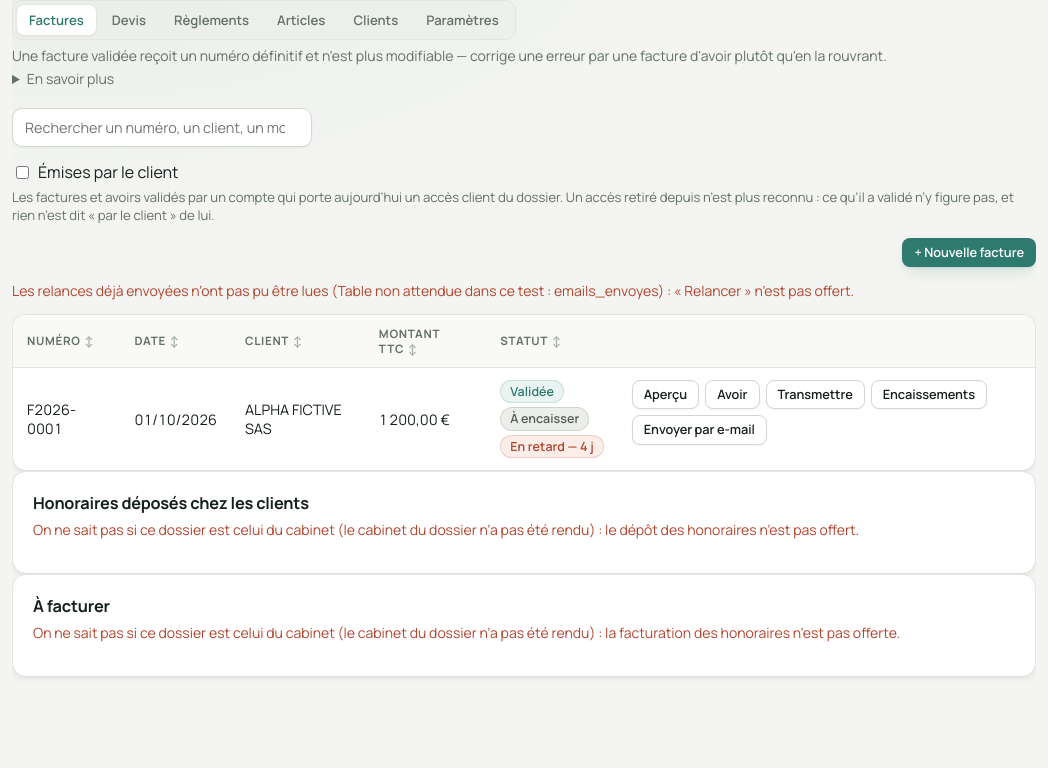
Devis dans l’onglet Factures — cabinet › le vide ne se dit que d’une liste lue en entier
This screenshot has width=1048, height=768.
expect the text "F2026-0001" is shown: met, box [27,400,76,438]
Click the tab "Devis" at (129, 20), box [99,4,159,36]
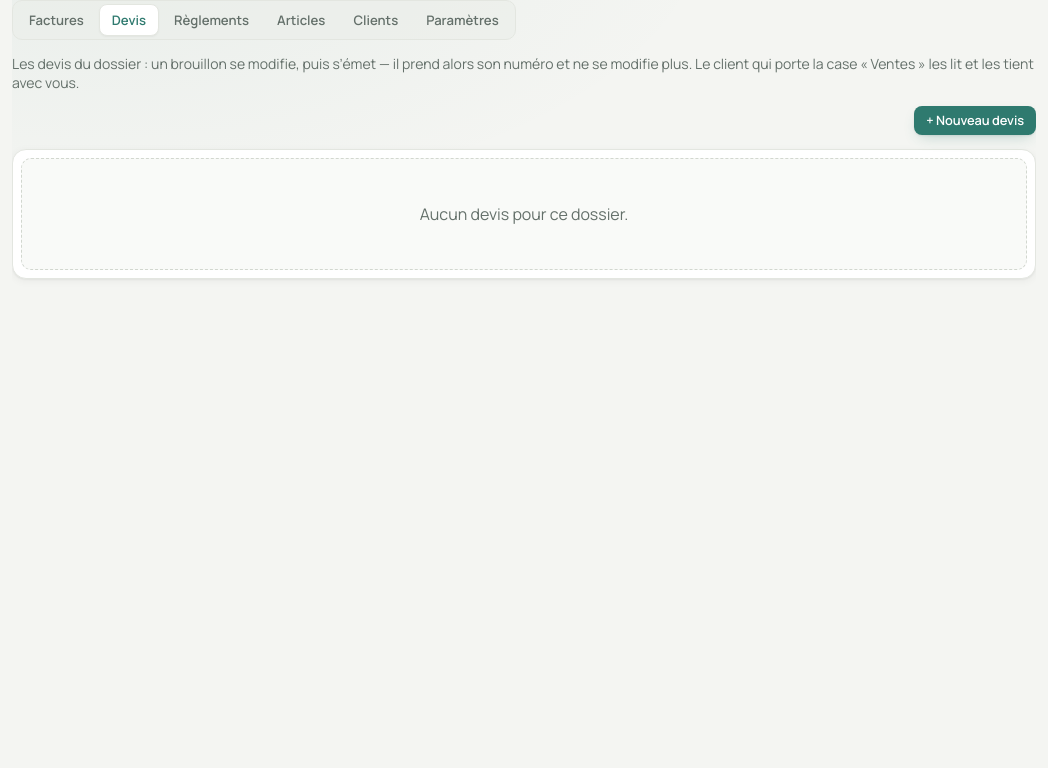
expect the text "Aucun devis pour ce dossier." is shown: met, box [21,158,1027,270]
expect the button "+ Nouveau devis" is shown: met, box [914,106,1036,135]
